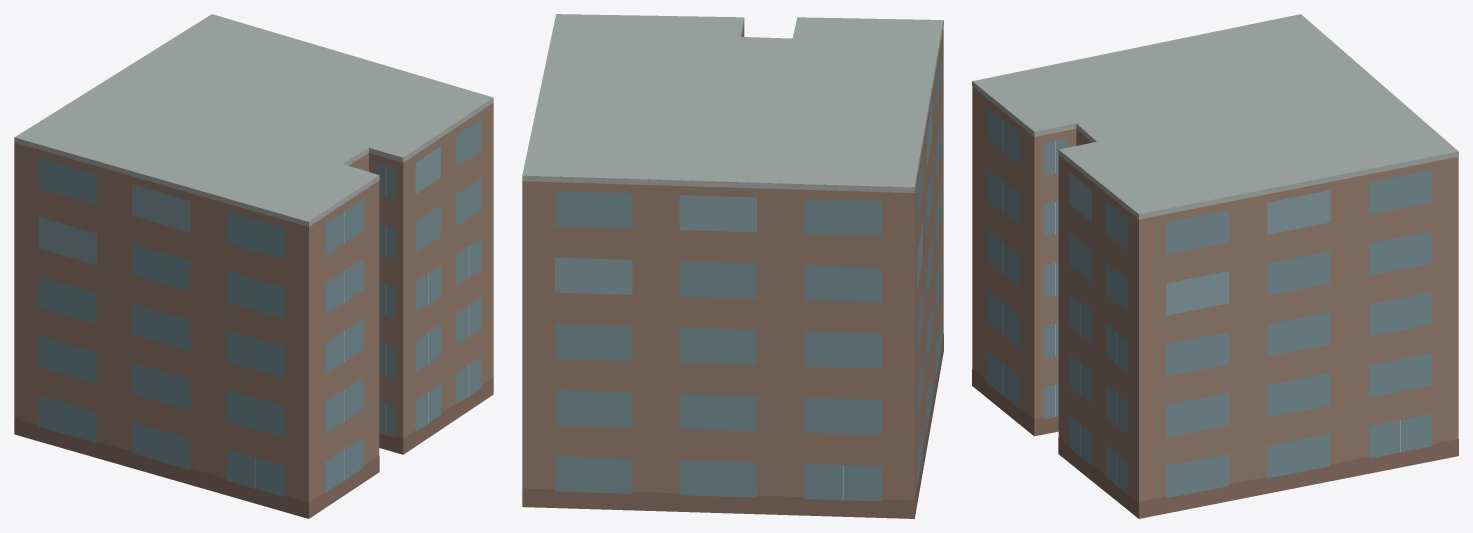
File: survey-upis-32744735.glb
3 renders of one model, left to right at view 1: azimuth 30°, elevation 25°; view 2: azimuth 150°, elevation 25°; view 3: azimuth 270°, elevation 25°, orthographic. The views are drawn at different scales.
Visible parts, largest first — view 1: survey-upis-32744735.tmp; view 2: survey-upis-32744735.tmp; view 3: survey-upis-32744735.tmp.
Boxes of the visible parts, left/top/right/bottom form: survey-upis-32744735.tmp: left=14, top=14, right=493, bottom=518; survey-upis-32744735.tmp: left=522, top=14, right=943, bottom=518; survey-upis-32744735.tmp: left=972, top=14, right=1458, bottom=518.
Bounding box in the file's own units: 20.04 × 14.2 × 20.57.
